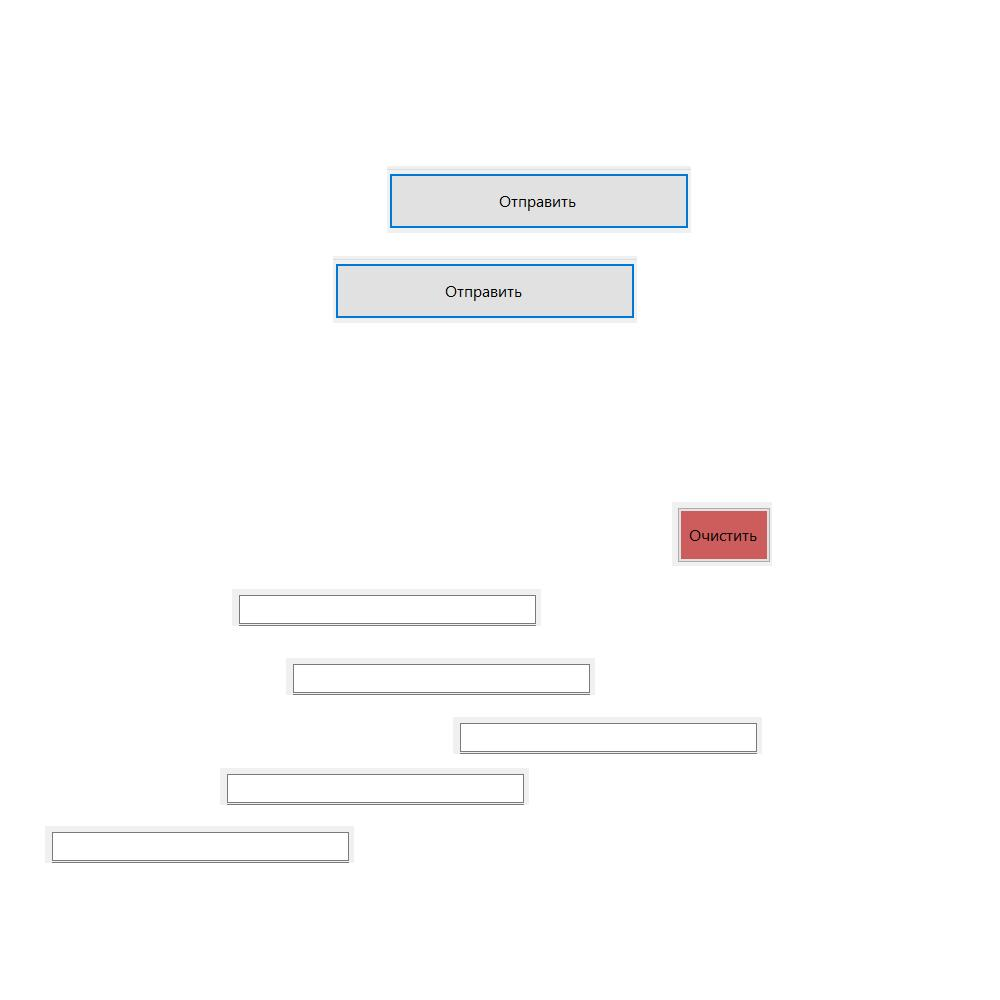Button: (387, 166, 691, 233), (333, 256, 637, 323), (672, 502, 772, 566)
EditText-: (45, 826, 354, 863), (453, 717, 762, 754), (286, 658, 595, 695), (220, 768, 529, 805), (232, 589, 541, 626)
